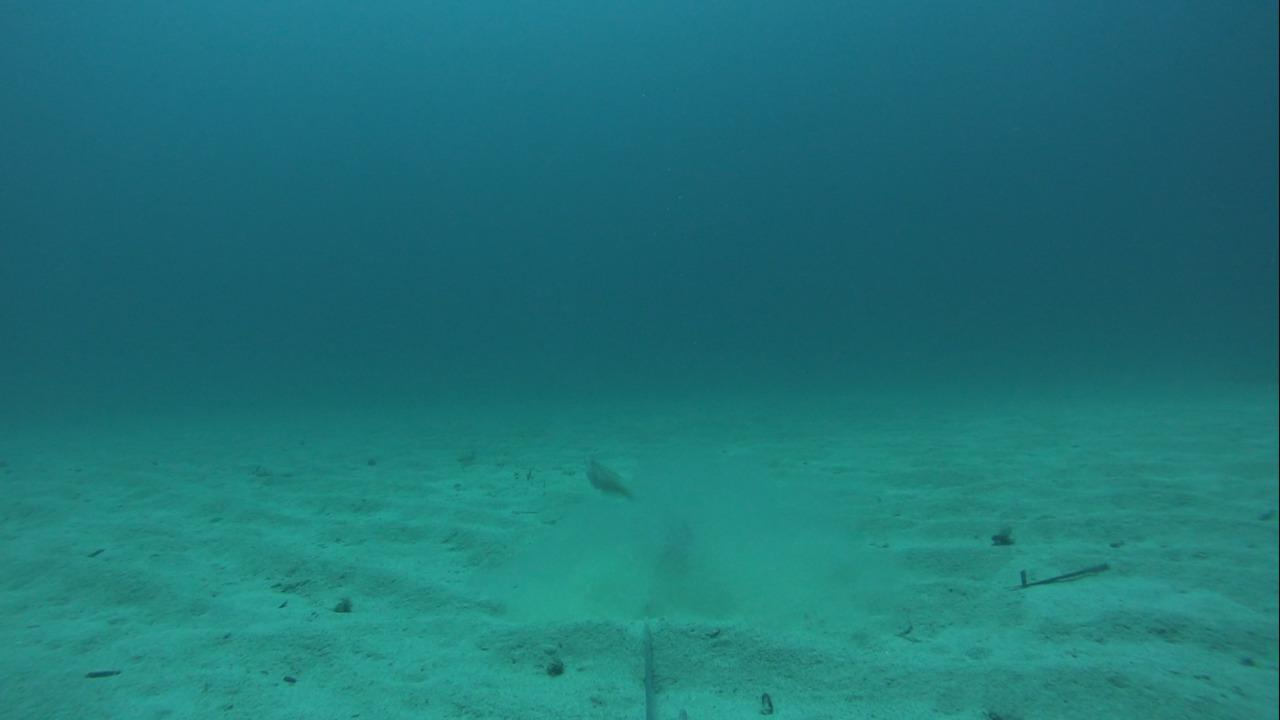raor: (571, 445, 637, 503)
